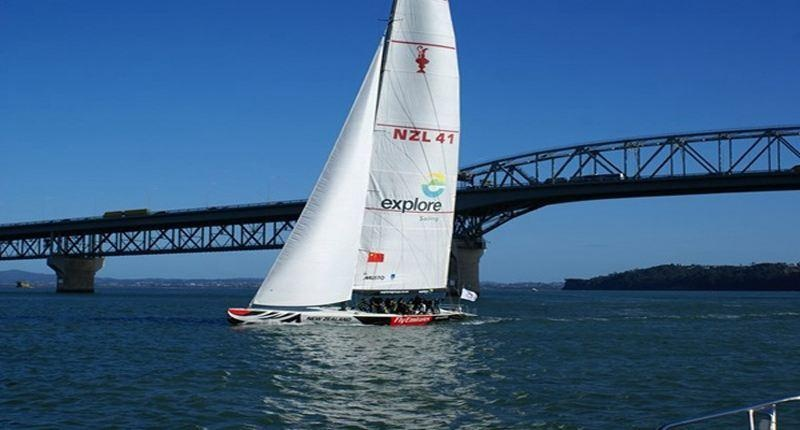fanchuan: (226, 1, 479, 327)
